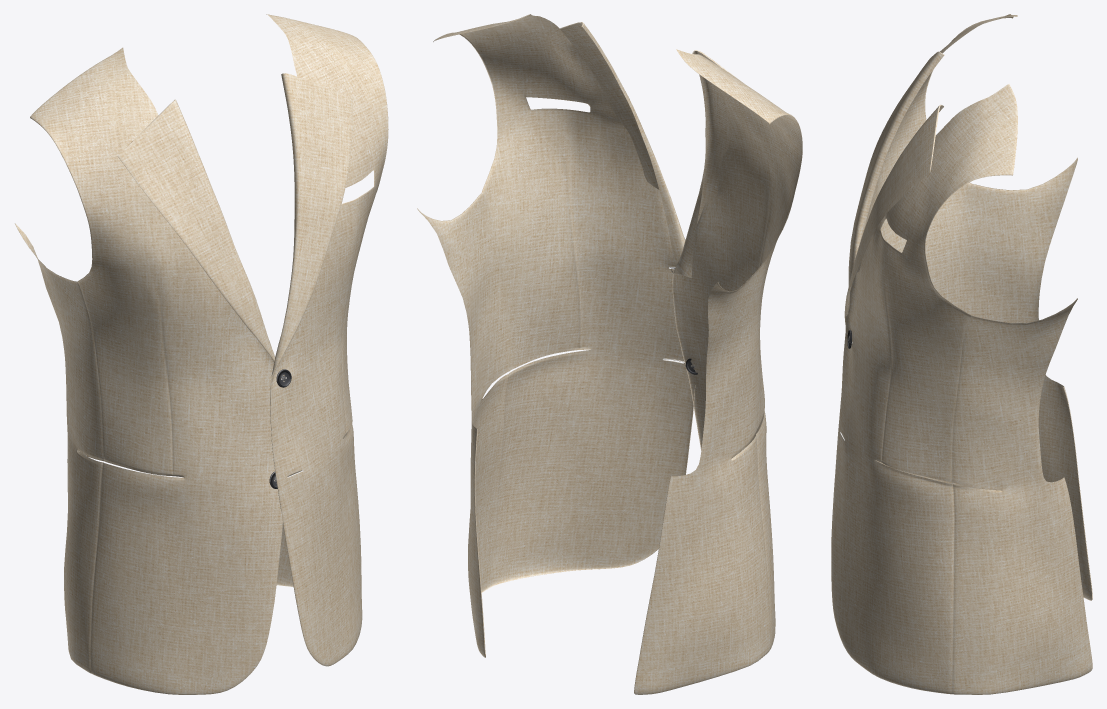
Rendered from double.glb.
The picture shows the model from 3 angles, left to right: view 1: azimuth 30°, elevation 25°; view 2: azimuth 150°, elevation 25°; view 3: azimuth 270°, elevation 25°; orthographic projection. The views are drawn at different scales.
Visible parts, largest first — view 1: notch_double_button; view 2: notch_double_button; view 3: notch_double_button.
Part boxes in pixels (x1,y1,x2,y2): notch_double_button: (15, 14, 388, 694); notch_double_button: (417, 14, 802, 694); notch_double_button: (831, 14, 1092, 694).
Size of the model in its own units: 0.0585 by 0.102 by 0.0411.
Materials: 4 (3 with a texture image).
